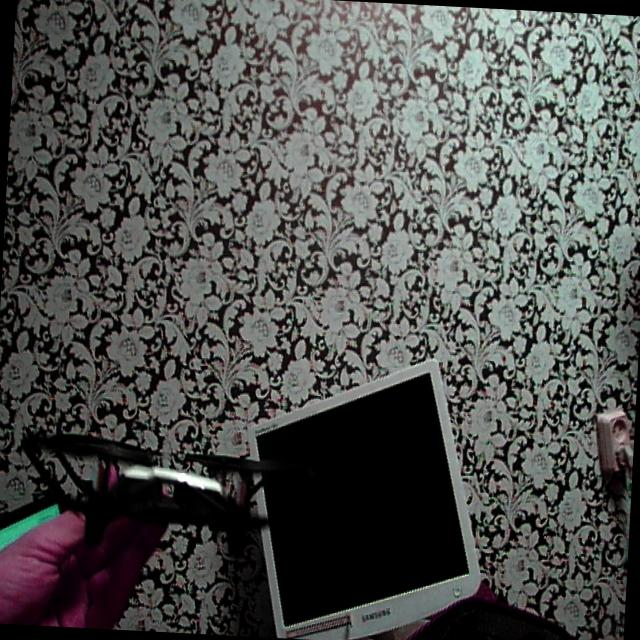drone: (8, 402, 278, 568)
